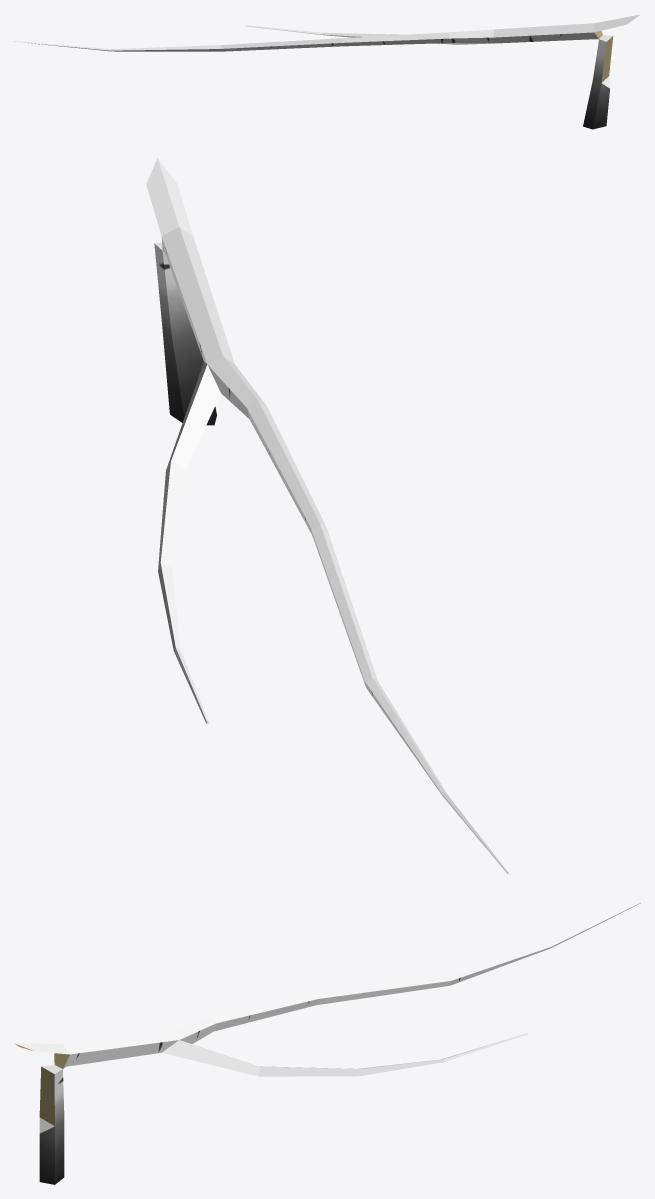
The model's file is Birch_Tree_NoLeaves_crk_l_Snow_BT_01.fbx.
3 renders of one model, top to bottom at view 1: azimuth 30°, elevation 25°; view 2: azimuth 150°, elevation 25°; view 3: azimuth 270°, elevation 25°, orthographic. The views are drawn at different scales.
Visible parts, largest first — view 1: Birch_Tree_NoLeaves_crk_l_Snow_BT_01; view 2: Birch_Tree_NoLeaves_crk_l_Snow_BT_01; view 3: Birch_Tree_NoLeaves_crk_l_Snow_BT_01.
Part boxes in pixels (x1,y1,x2,y2): Birch_Tree_NoLeaves_crk_l_Snow_BT_01: (14, 14, 640, 129); Birch_Tree_NoLeaves_crk_l_Snow_BT_01: (146, 158, 508, 873); Birch_Tree_NoLeaves_crk_l_Snow_BT_01: (14, 902, 640, 1184).
Size of the model in its own units: 1011 by 271 by 986.
